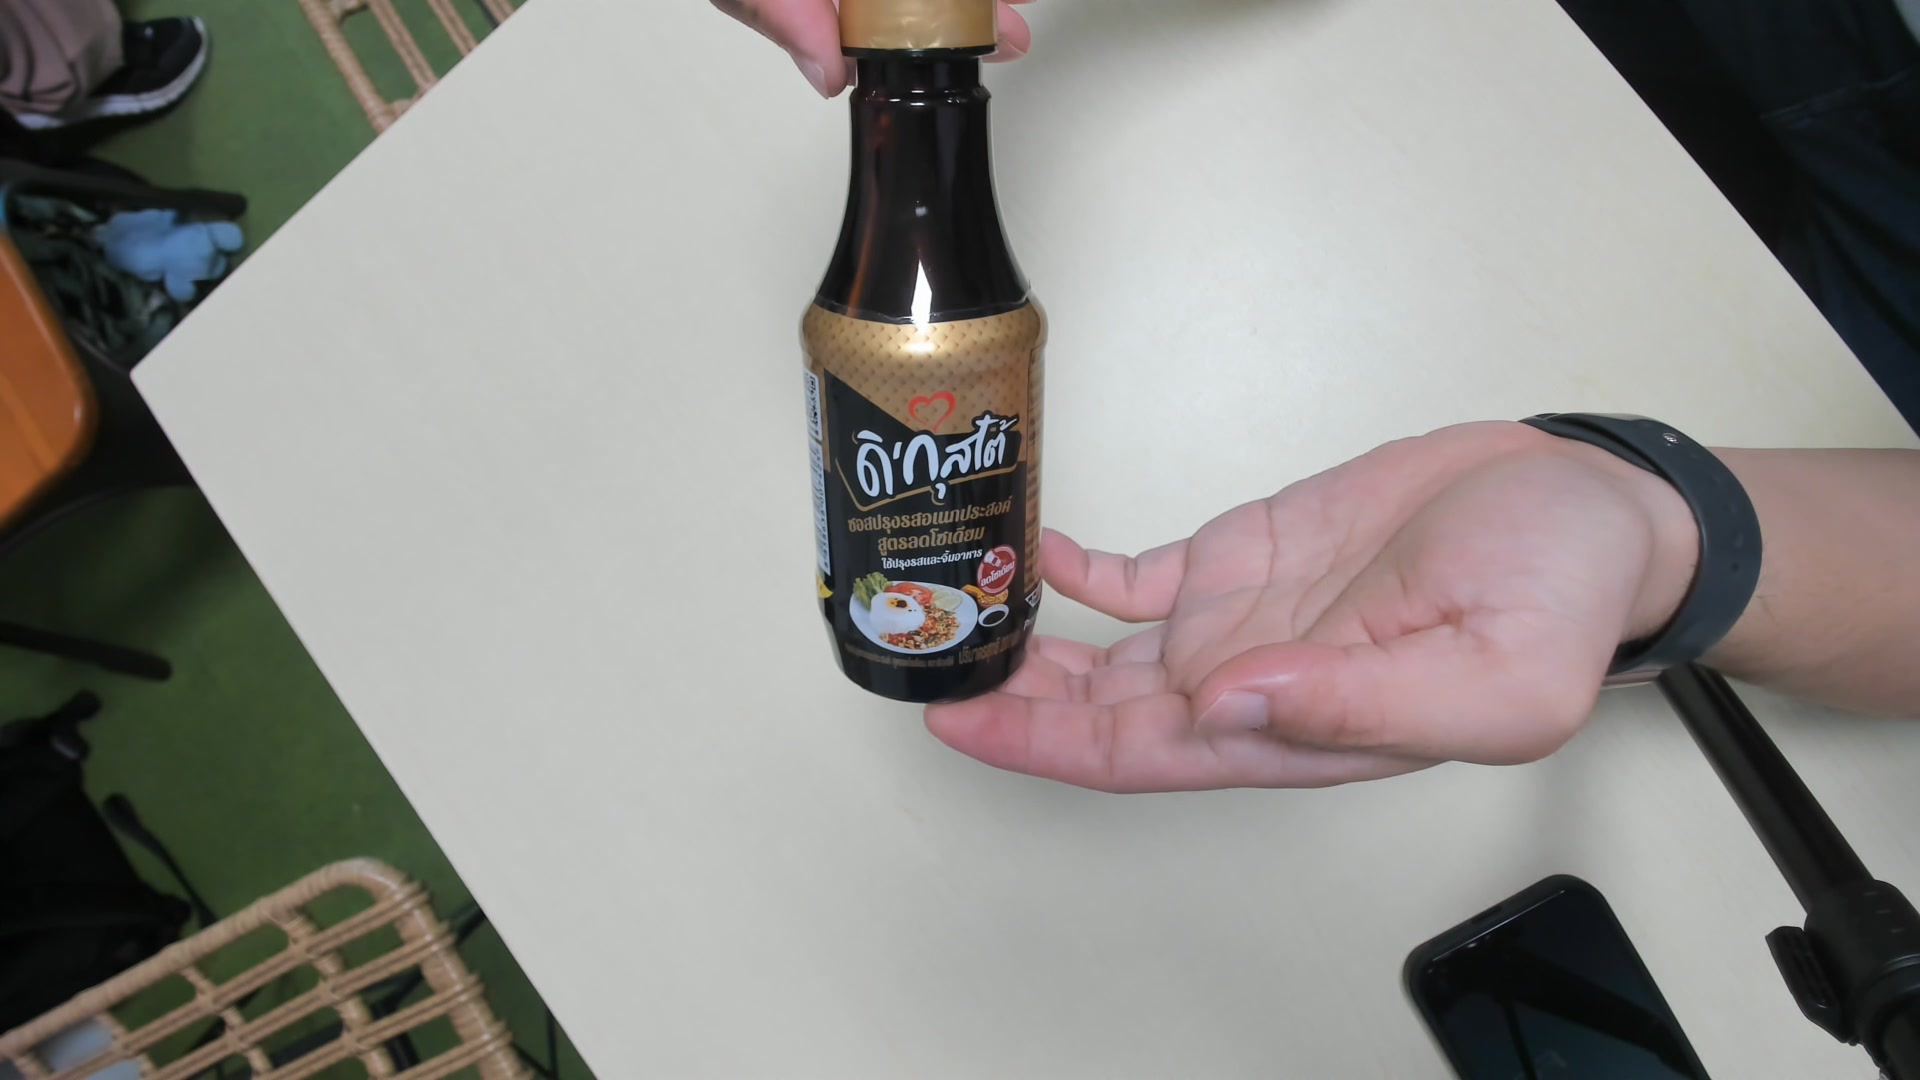OtherSauceDressing_200-299g_NonHalal_NonHealthy: (800, 3, 1054, 703)
